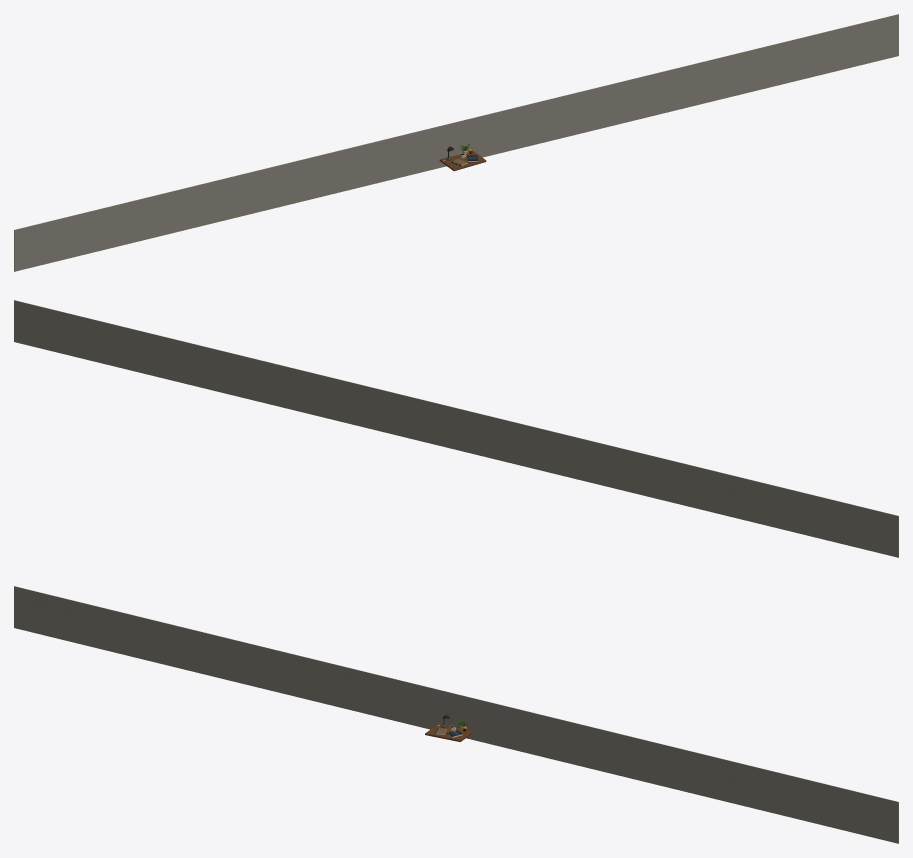
Rendered from codex.glb.
The picture shows the model from 3 angles, top to bottom: view 1: azimuth 30°, elevation 25°; view 2: azimuth 150°, elevation 25°; view 3: azimuth 330°, elevation 25°; orthographic projection.
Parts seen in each view (by area): view 1: Plaster wall; view 2: Plaster wall; view 3: Plaster wall.
Part boxes in pixels (x1=…): Plaster wall: x1=14, y1=14, x2=898, y2=271; Plaster wall: x1=14, y1=300, x2=898, y2=557; Plaster wall: x1=14, y1=586, x2=898, y2=843.
Size of the model in its own units: 200 by 9 by 5.91.
70 materials, 46 textured.
